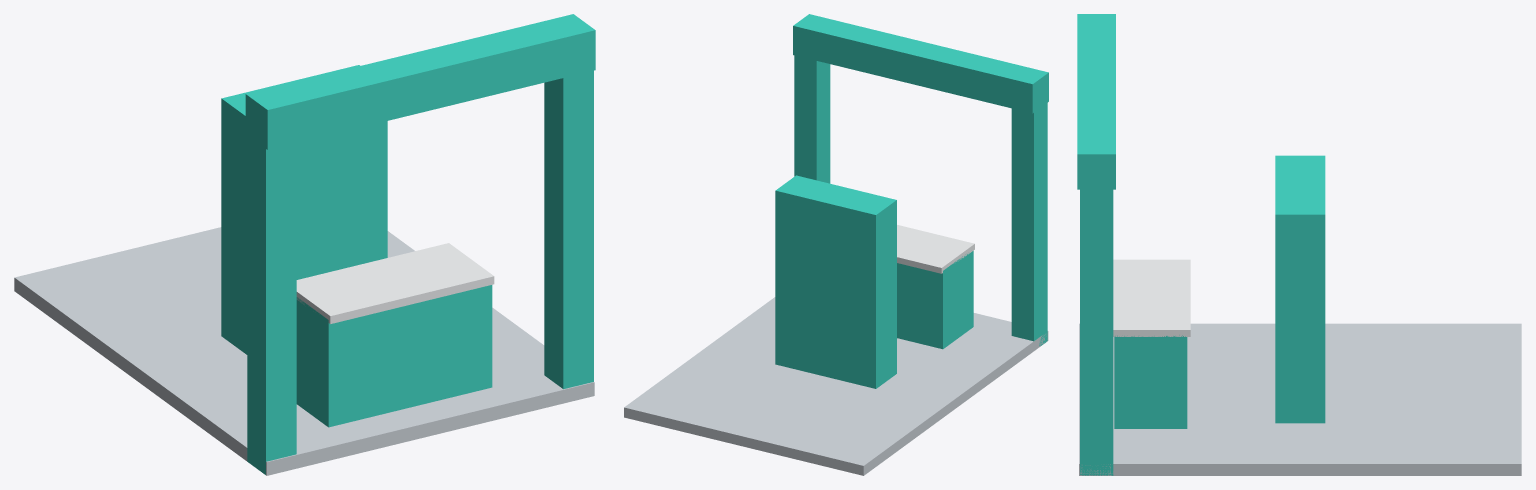
3 renders of one model, left to right at view 1: azimuth 30°, elevation 25°; view 2: azimuth 150°, elevation 25°; view 3: azimuth 270°, elevation 25°, orthographic. The views are drawn at different scales.
Visible parts, largest first — view 1: Exhibition Booth Concept; view 2: Exhibition Booth Concept; view 3: Exhibition Booth Concept.
Boxes of the visible parts, bbox=[...] form: Exhibition Booth Concept: bbox=[14, 14, 595, 475]; Exhibition Booth Concept: bbox=[624, 14, 1048, 475]; Exhibition Booth Concept: bbox=[1077, 14, 1521, 475].
Size of the model in its own units: 3 by 3.2 by 4.02.
